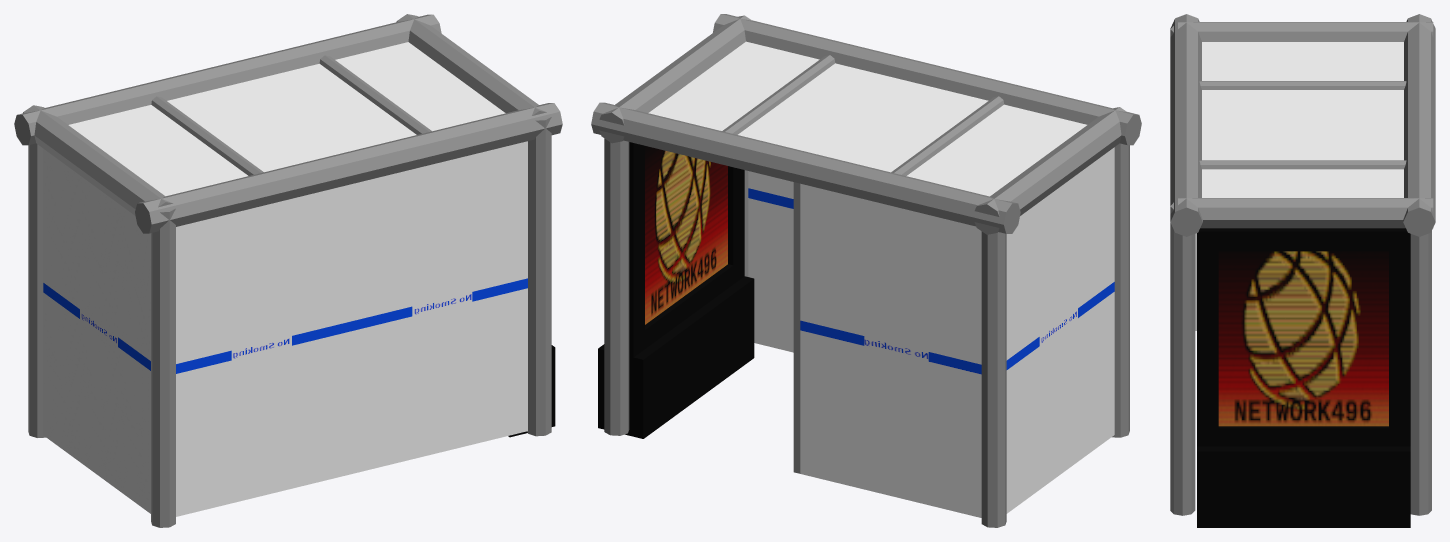
Rendered from BusStop.fbx.
The picture shows the model from 3 angles, left to right: view 1: azimuth 30°, elevation 25°; view 2: azimuth 150°, elevation 25°; view 3: azimuth 270°, elevation 25°; orthographic projection. The views are drawn at different scales.
Parts seen in each view (by area): view 1: BusStop; view 2: BusStop; view 3: BusStop.
Boxes of the visible parts, bbox=[...] form: BusStop: bbox=[14, 14, 562, 527]; BusStop: bbox=[591, 14, 1141, 527]; BusStop: bbox=[1170, 14, 1435, 527].
Bounding box in the file's own units: 277 × 209 × 158.
